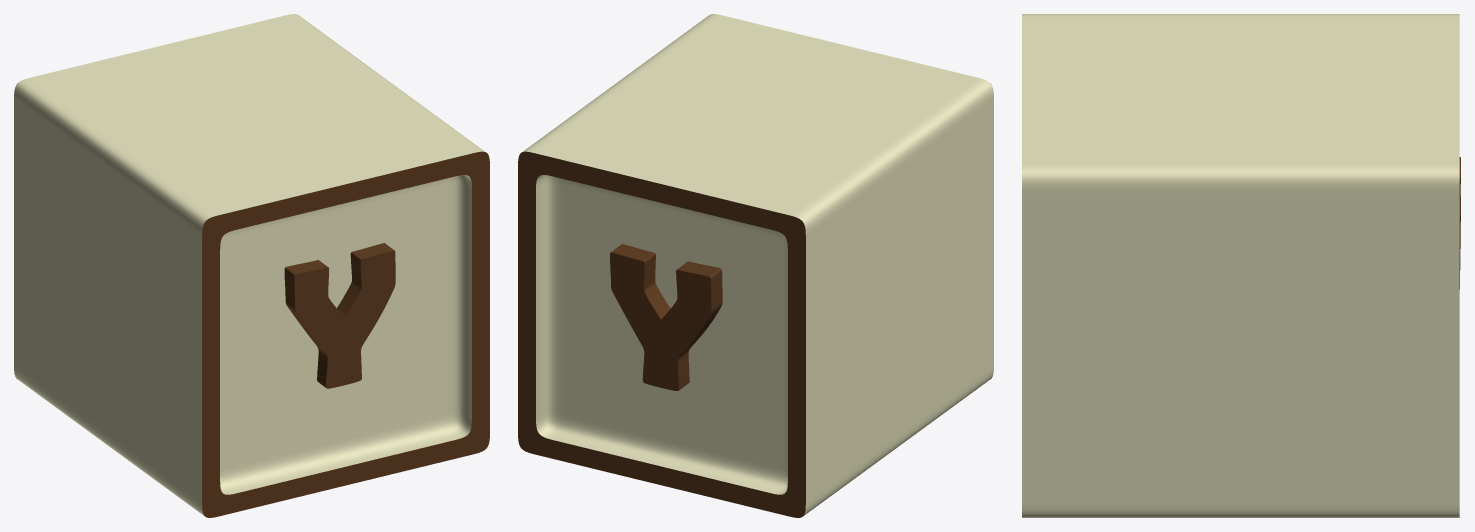
Rendered from letteryblock.fbx.
The picture shows the model from 3 angles, left to right: view 1: azimuth 30°, elevation 25°; view 2: azimuth 150°, elevation 25°; view 3: azimuth 270°, elevation 25°; orthographic projection. The views are drawn at different scales.
Visible parts, largest first — view 1: Cube, Cube.002, Text; view 2: Cube, Cube.001, Text.001; view 3: Cube.
Part boxes in pixels (x1=…): Cube: x1=14, y1=14, x2=485, y2=515; Cube.002: x1=202, y1=151, x2=489, y2=517; Text: x1=284, y1=243, x2=395, y2=388; Cube: x1=522, y1=14, x2=993, y2=515; Cube.001: x1=518, y1=151, x2=805, y2=517; Text.001: x1=610, y1=244, x2=722, y2=390; Cube: x1=1022, y1=14, x2=1459, y2=517.
Size of the model in its own units: 1196 by 1196 by 1358.
